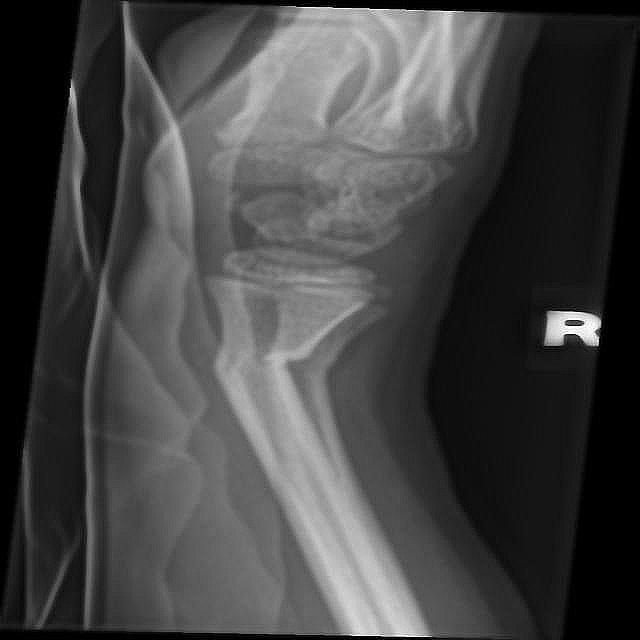bone: (209, 340, 319, 388), (254, 341, 344, 389)
